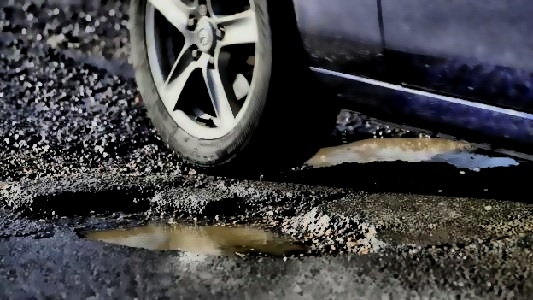pothole: (21, 186, 383, 261)
